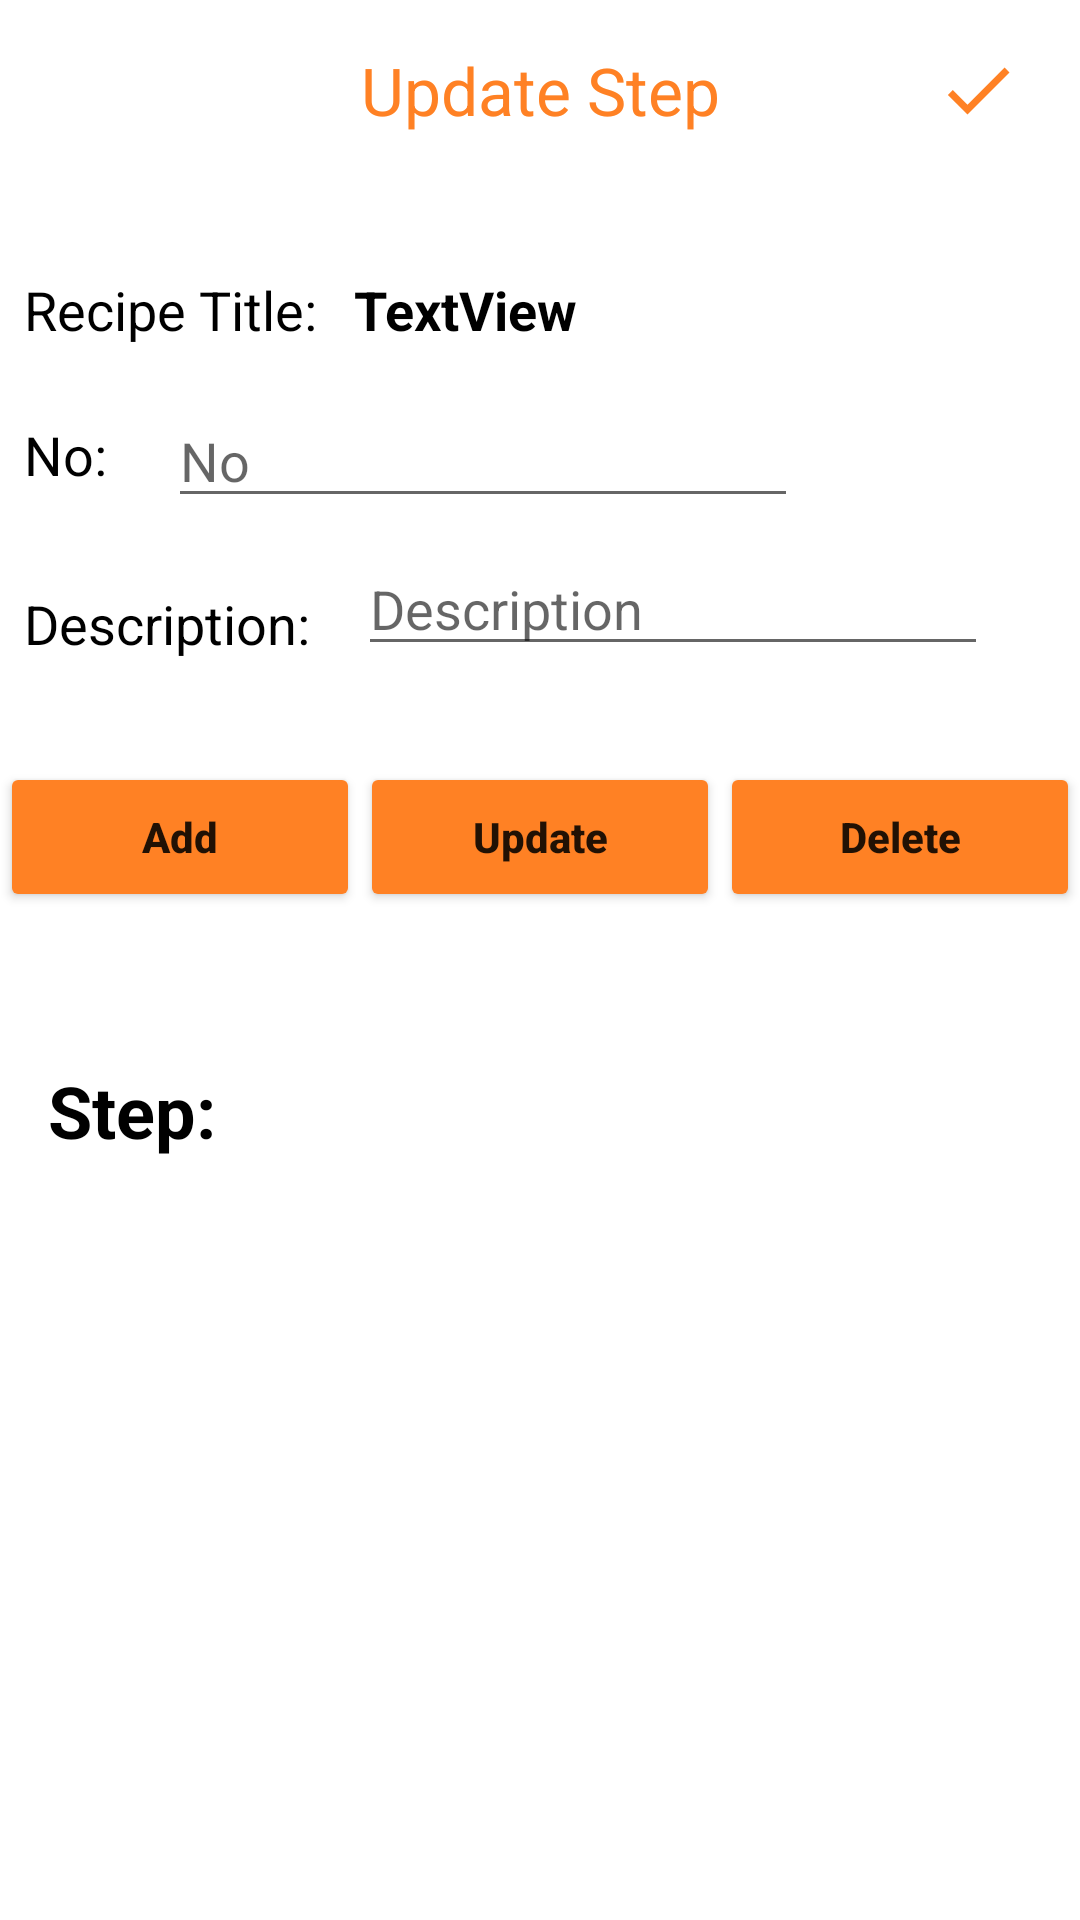

Icons on this 1080x1920 Android screen, each with its box as (x1, y1, x2, y2):
done: (948, 67, 1010, 115)
